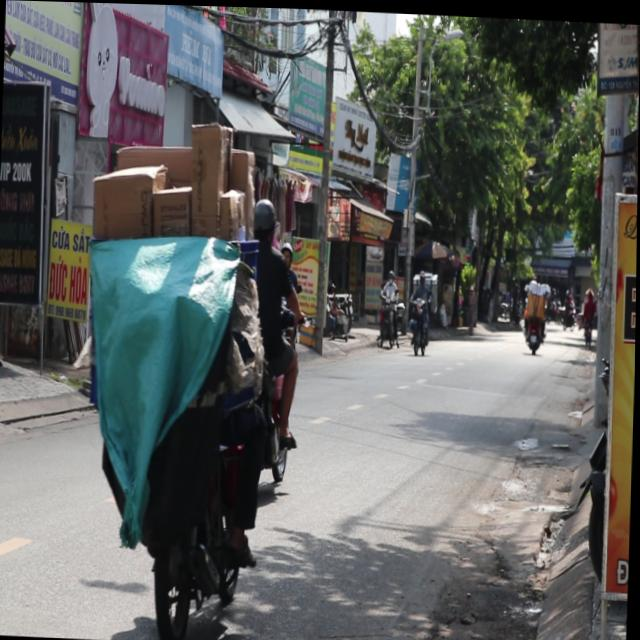helmet: (250, 194, 278, 241)
licenseplate: (77, 74, 307, 640)
